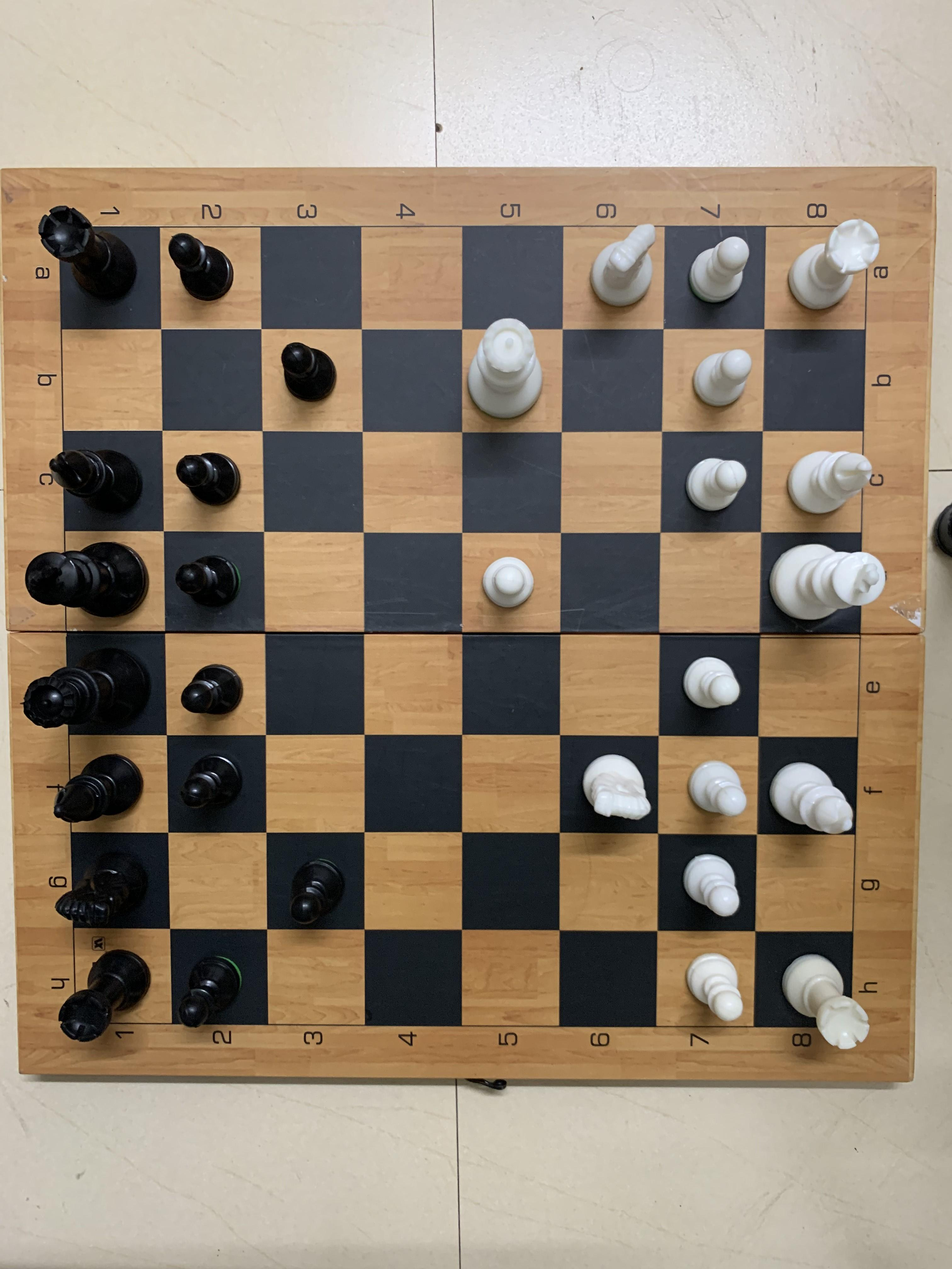black_bishop: (36, 441, 169, 524), (55, 734, 154, 833)
black_king: (14, 535, 161, 633)
black_knight: (30, 847, 164, 941)
black_pawn: (162, 933, 276, 1041), (165, 430, 264, 532), (154, 232, 258, 329), (271, 838, 358, 938), (167, 745, 259, 837), (170, 644, 261, 736), (167, 543, 264, 629), (264, 340, 352, 422)
black_queen: (16, 647, 152, 739)
black_rook: (31, 203, 145, 327), (47, 946, 159, 1060)
white_bishop: (759, 738, 875, 842), (765, 435, 875, 535)
white_king: (765, 540, 900, 632)
white_knight: (568, 225, 669, 334), (564, 738, 657, 833)
white_pawn: (660, 636, 759, 737), (663, 932, 756, 1032), (469, 536, 564, 633), (664, 436, 761, 530), (669, 334, 760, 433), (675, 222, 759, 324), (667, 743, 759, 832), (667, 847, 754, 927)
white_queen: (460, 317, 570, 433)
white_rook: (762, 933, 885, 1063), (765, 222, 883, 331)
